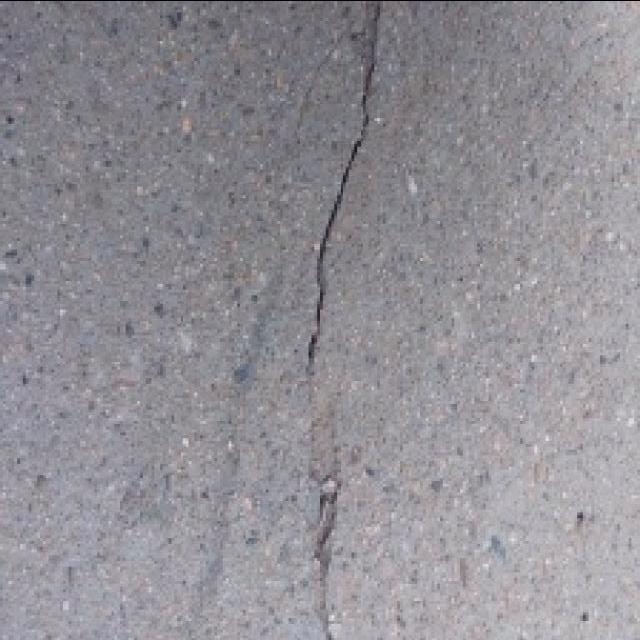SurfaceCrack: (286, 6, 418, 640)
